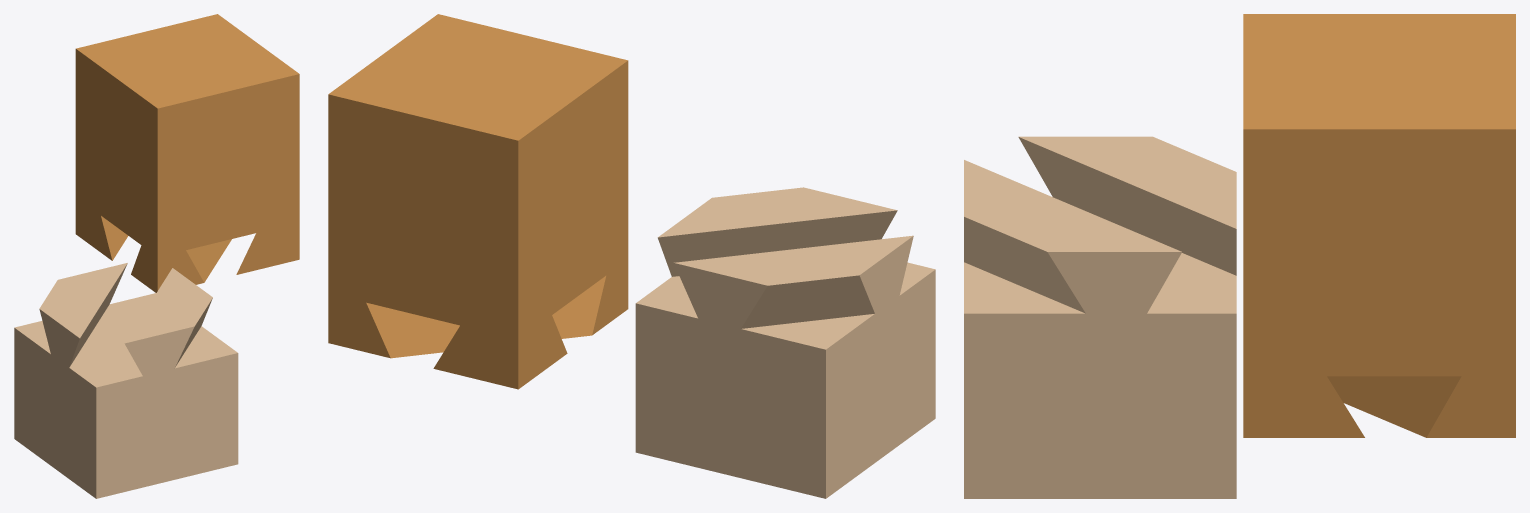
3 views of the same model, side by side, from view 1: azimuth 30°, elevation 25°; view 2: azimuth 150°, elevation 25°; view 3: azimuth 270°, elevation 25° (orthographic). The views are drawn at different scales.
Size of the model in its own units: 8.1 by 7.9 by 8.1.
